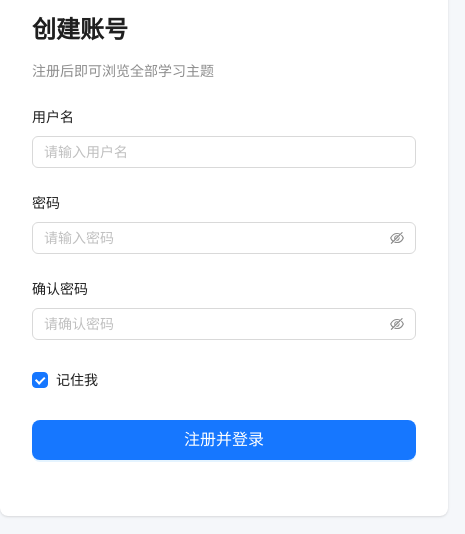
Scenario: RegisterForm › 弱口令时阻止提交并提示策略要求
In the field labelled "用户名": (216, 152) [44,141,388,163], type "tester"
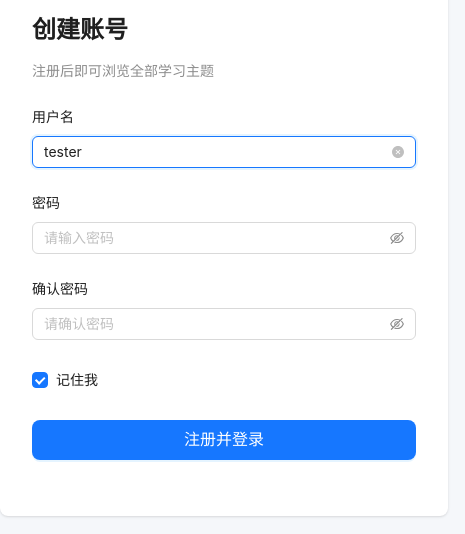
In the password field labelled "密码": (215, 238) [44,227,386,249], type "Password123"
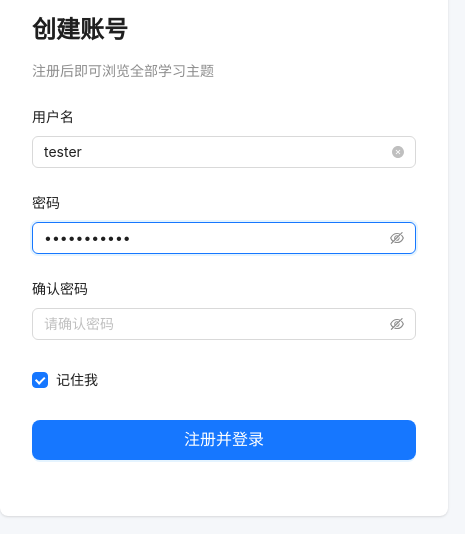
In the password field labelled "确认密码": (215, 324) [44,313,386,335], type "Password123"
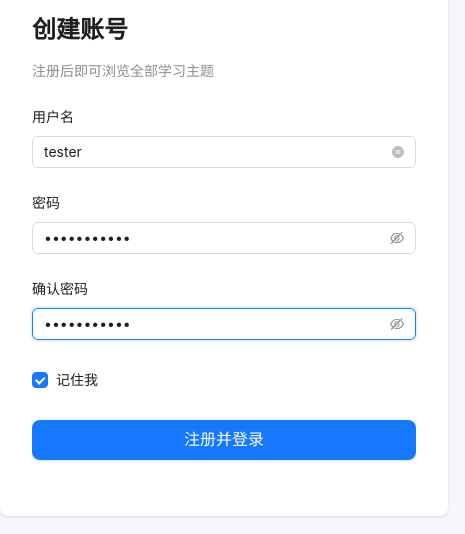
Click the button "注册并登录": (224, 440) [32,420,416,460]
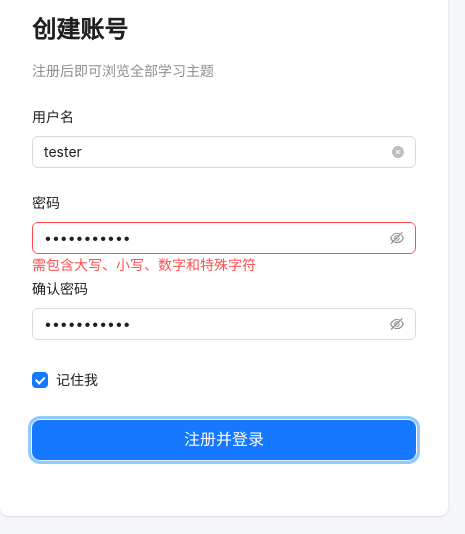
Check: the text "需包含大写、小写、数字和特殊字符" is shown, box [32,256,256,273]
